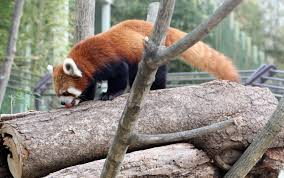redPanda: (41, 19, 240, 105)
